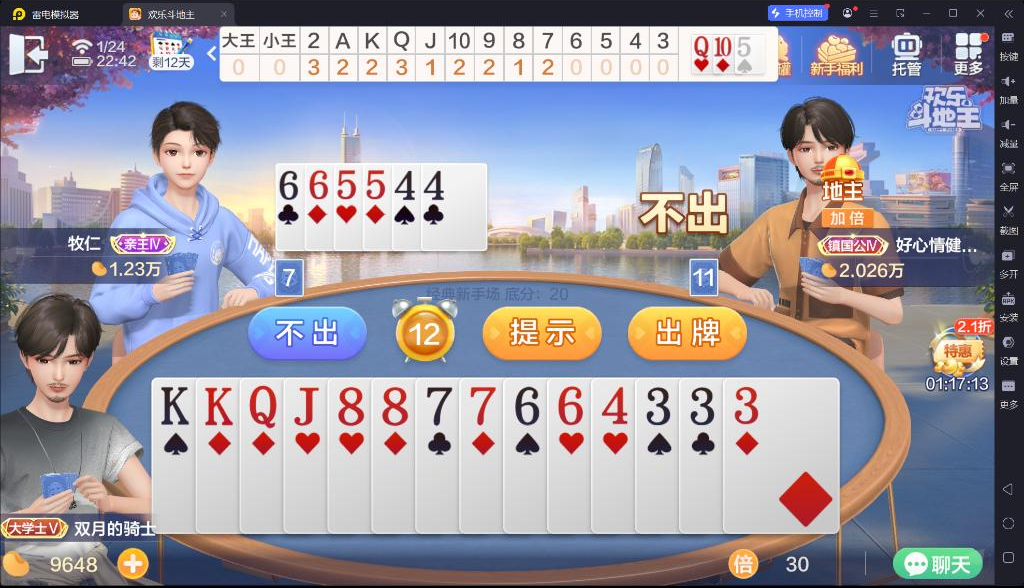J: (287, 384, 319, 427)
K: (158, 384, 192, 428), (201, 384, 235, 428)
Q: (245, 384, 278, 431), (693, 35, 710, 59)
eight: (333, 384, 367, 427), (378, 384, 410, 427)
five: (365, 168, 388, 202), (335, 168, 357, 200), (736, 35, 753, 58)
four: (598, 384, 630, 427), (393, 168, 417, 203), (423, 168, 447, 202)
seven: (467, 381, 497, 427), (422, 384, 454, 427)
six: (555, 384, 585, 427), (511, 384, 541, 427), (276, 169, 300, 201), (307, 168, 329, 200)
ten: (713, 35, 732, 57)
three: (687, 384, 717, 428), (642, 384, 672, 428), (731, 384, 761, 427)
